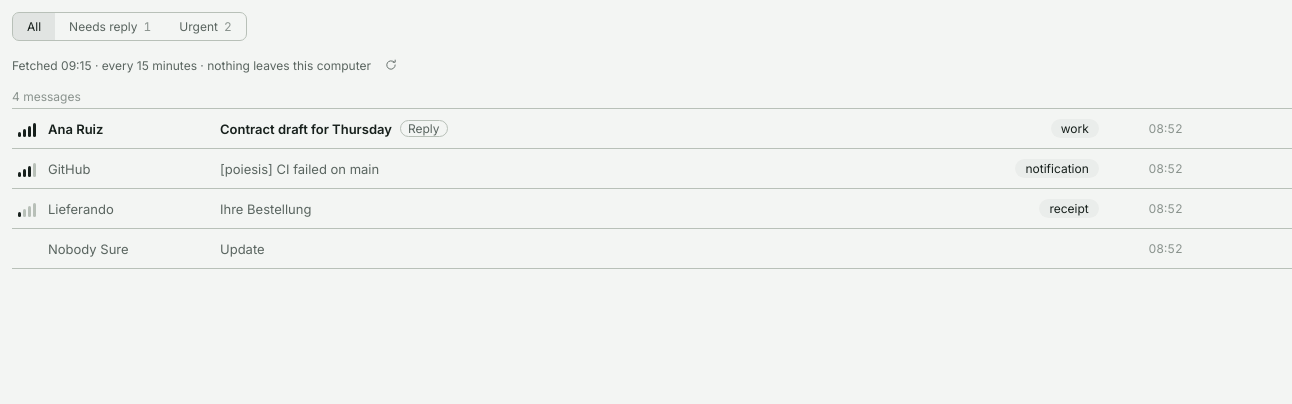
Test case: the kind menu › shows the words of a refused retag and leaves the row as it was
What coordinates should you click on to do the following:
click the button with class "mail-kind" showing "work"
I would click on:
 (1075, 128)
Its box is [1051,119,1099,138].
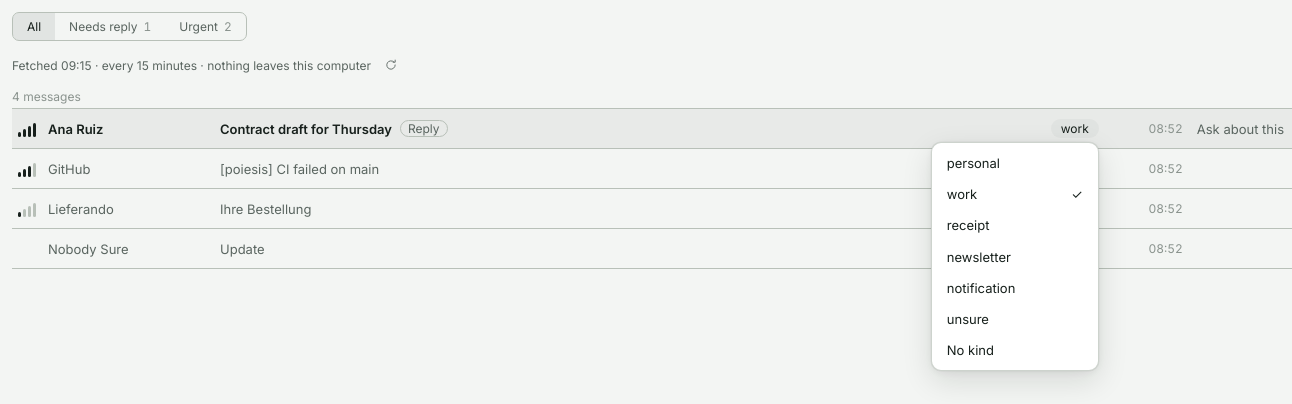
What coordinates should you click on to do the following:
click the menu item "newsletter"
I would click on:
 (1015, 257)
Its box is [937,242,1093,272].
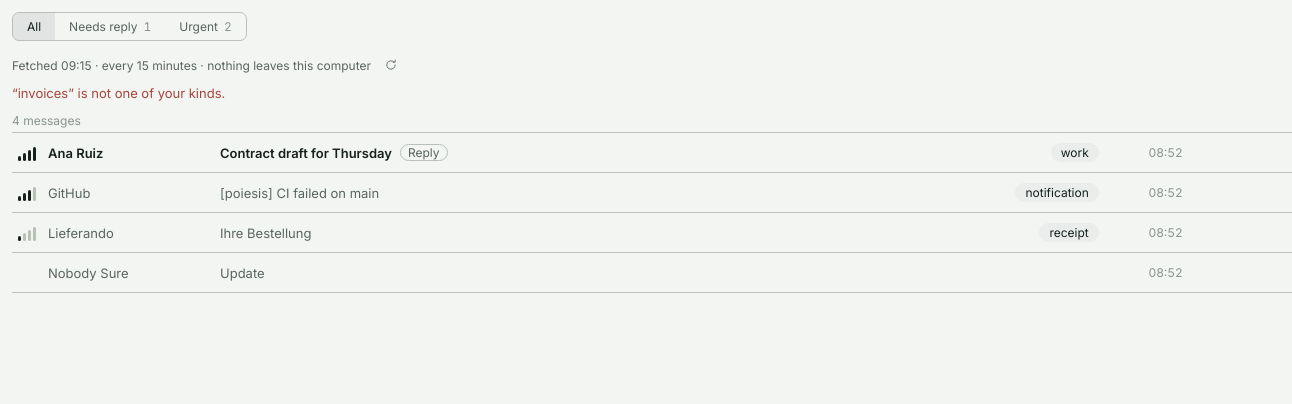
Expected: the button "work" is shown, [1051,143,1099,162]
Now the text "is not one of your kinds" is shown, box [12,85,225,101]
